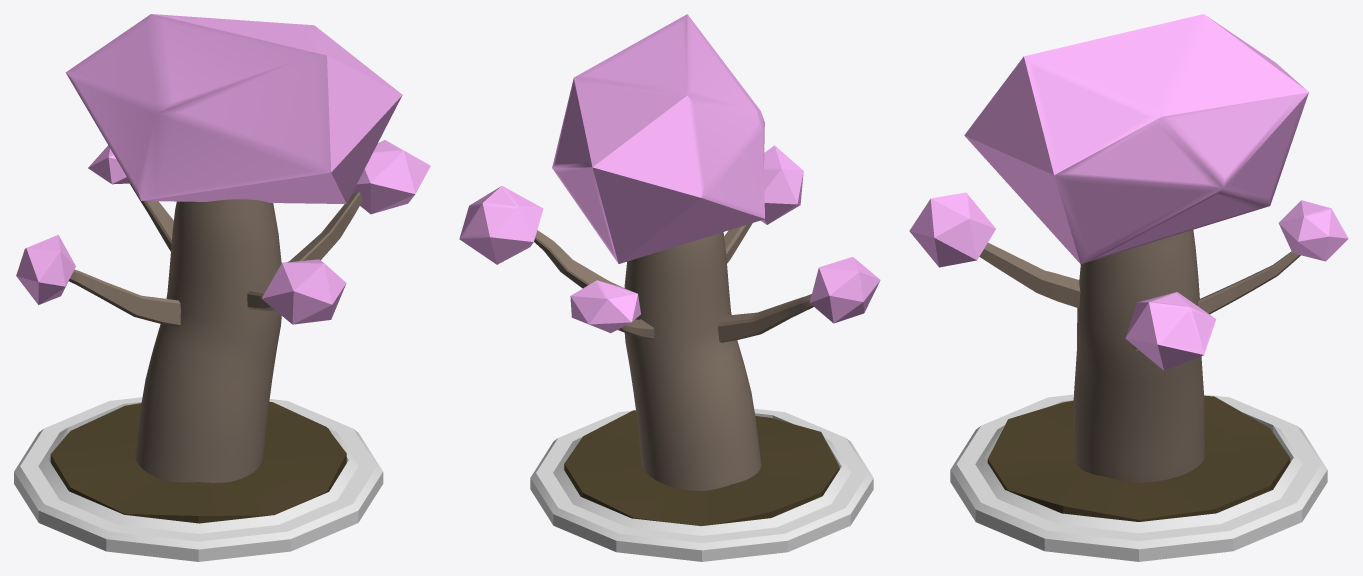
The model's file is Cherry tree.fbx.
The picture shows the model from 3 angles, left to right: view 1: azimuth 30°, elevation 25°; view 2: azimuth 150°, elevation 25°; view 3: azimuth 270°, elevation 25°; orthographic projection. The views are drawn at different scales.
Visible parts, largest first — view 1: pCylinder9; view 2: pCylinder9; view 3: pCylinder9.
Part boxes in pixels (x1,y1,x2,y2): pCylinder9: (14, 14, 430, 561); pCylinder9: (459, 14, 880, 561); pCylinder9: (909, 14, 1348, 561).
Size of the model in its own units: 7.44 by 7.66 by 6.61.
